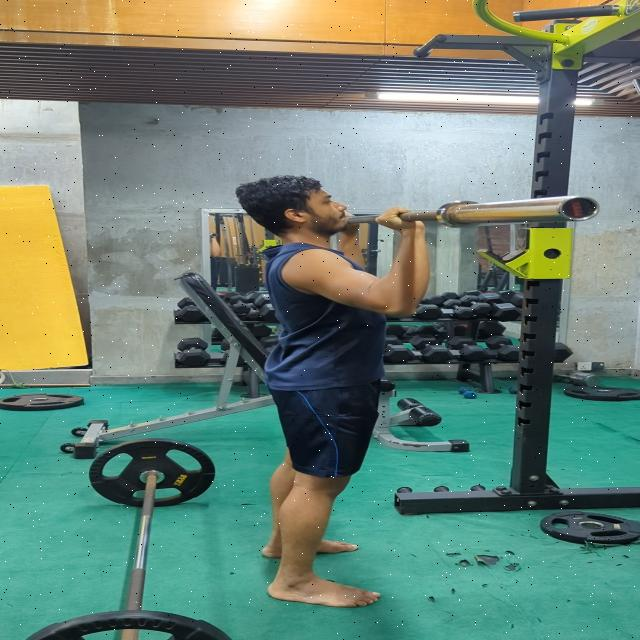Normal_OverheadPress: (198, 155, 438, 612)
